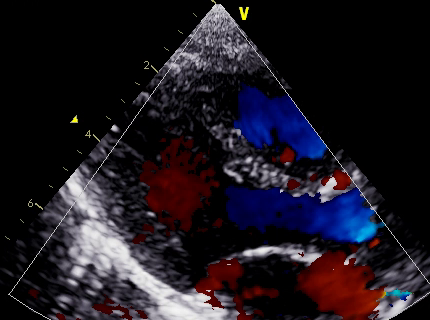AR: (150, 146, 225, 224)
